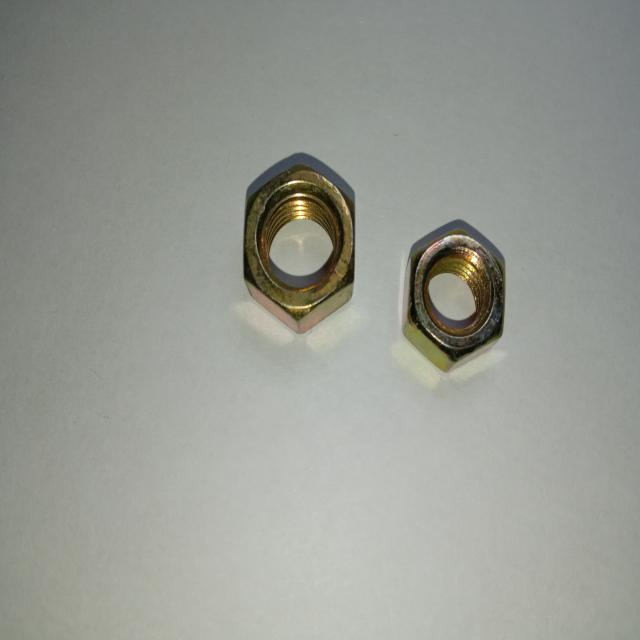m10: (242, 168, 354, 310)
m8: (406, 231, 506, 367)
